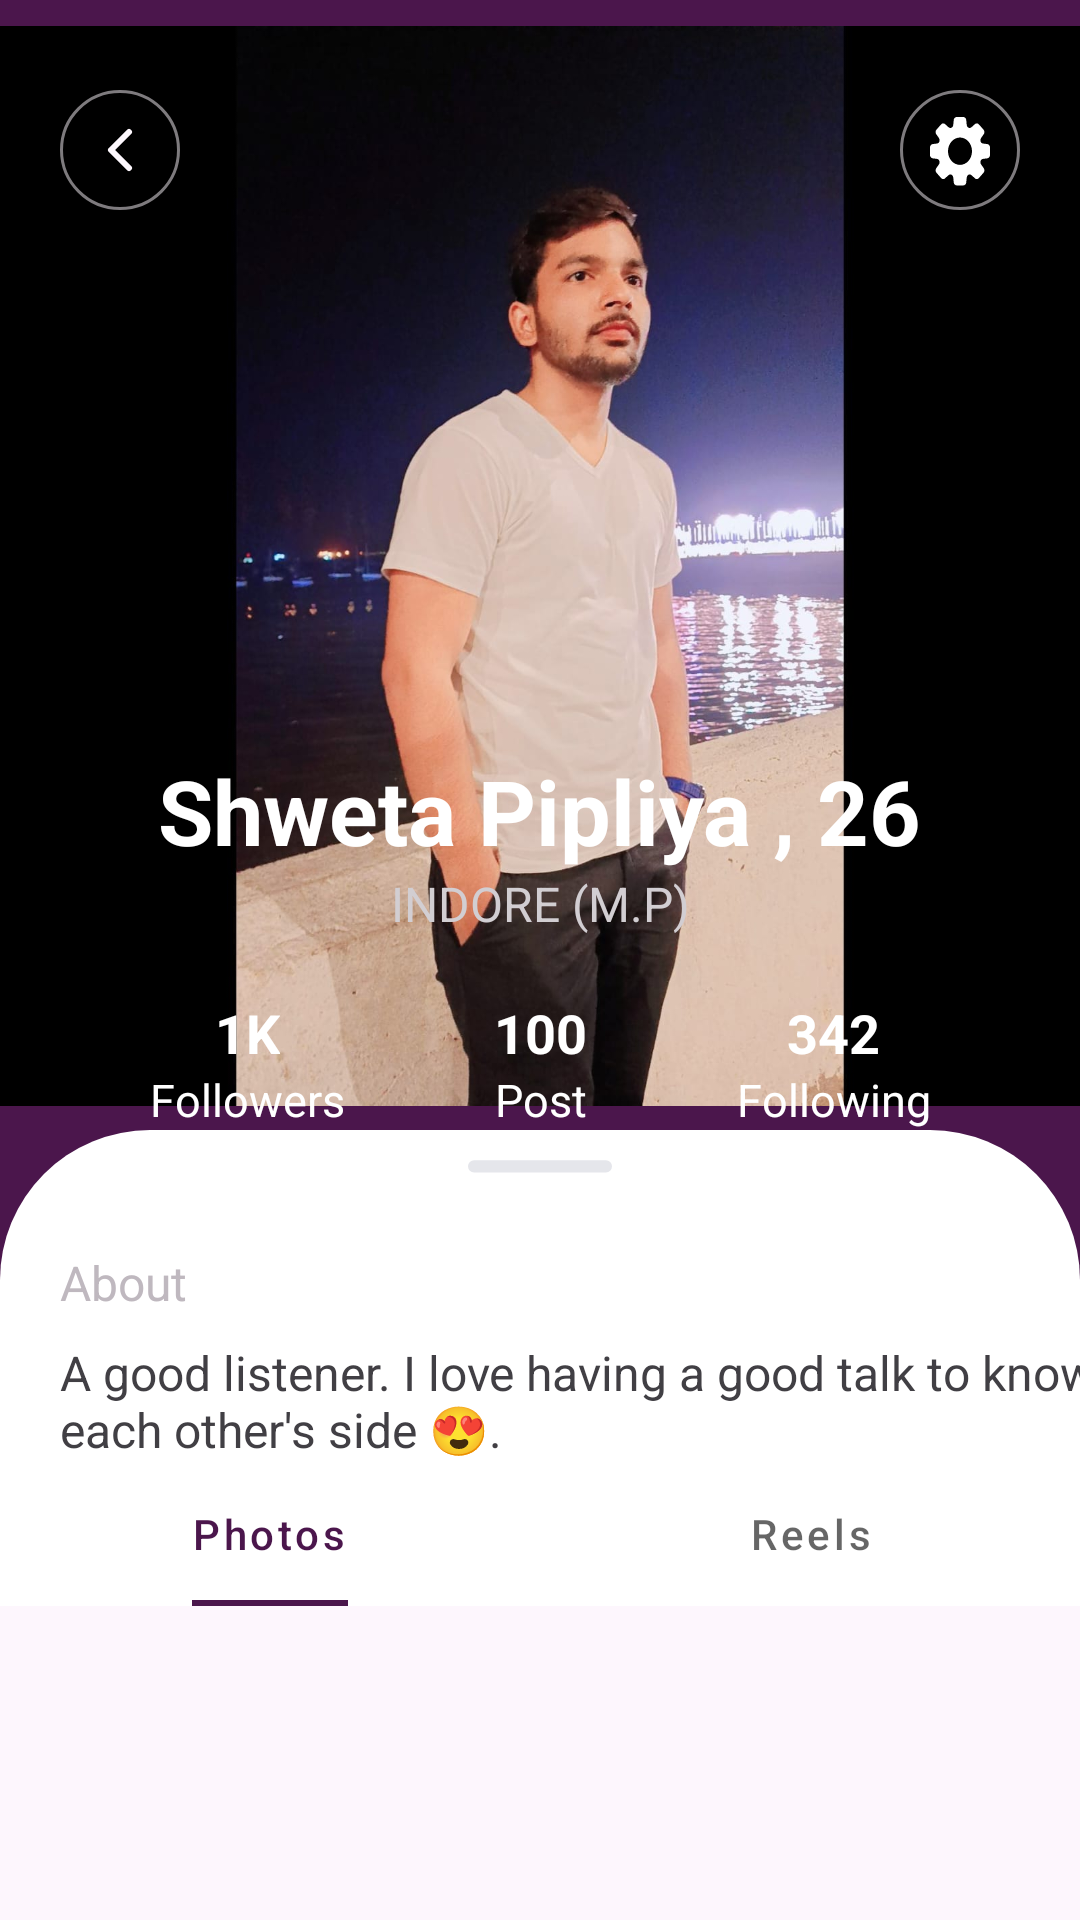

Named icons in this screenshot (1080w x 1920h) and their bounding boxes, bbox=(x1, y1, x2, y2):
back: bbox=(60, 90, 180, 210)
setting: bbox=(900, 90, 1020, 210)
